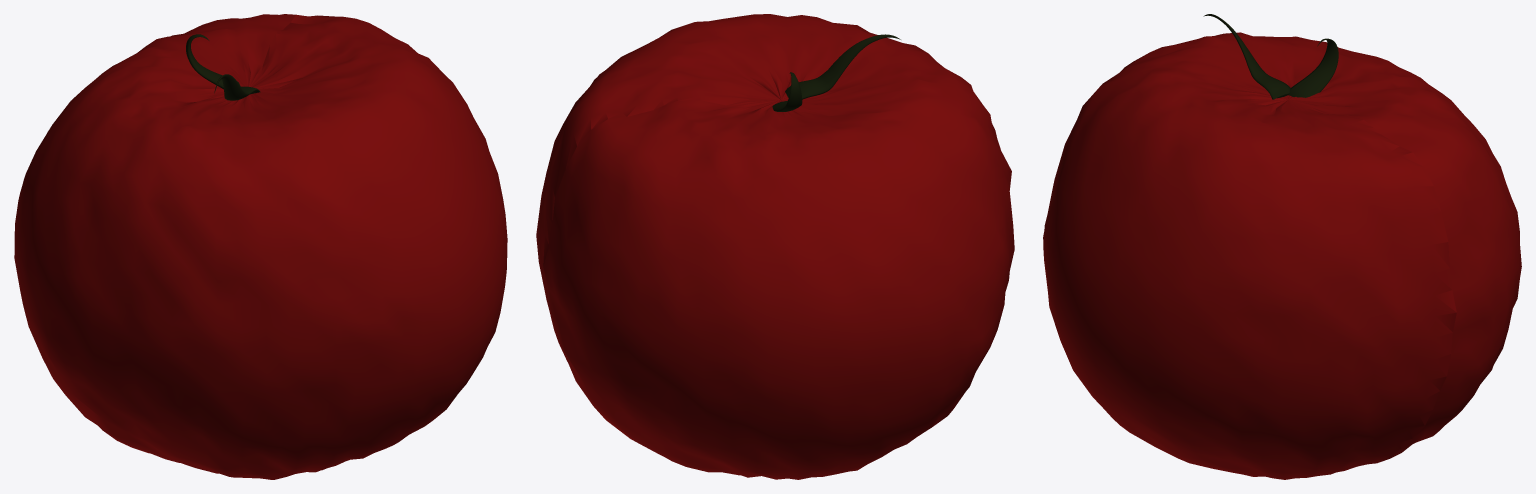
File: tomato.FBX
3 renders of one model, left to right at view 1: azimuth 30°, elevation 25°; view 2: azimuth 150°, elevation 25°; view 3: azimuth 270°, elevation 25°, orthographic. The views are drawn at different scales.
Parts seen in each view (by area): view 1: tomatos01, Loft09, Loft08; view 2: tomatos01, Loft09, Loft08; view 3: tomatos01, Loft08, Loft09.
Boxes of the visible parts, x1,y1,x2,y2 form: tomatos01: [14, 14, 507, 479]; Loft09: [214, 74, 260, 100]; Loft08: [186, 34, 239, 89]; tomatos01: [536, 14, 1014, 479]; Loft09: [785, 34, 900, 99]; Loft08: [772, 72, 802, 111]; tomatos01: [1043, 32, 1521, 479]; Loft08: [1289, 38, 1338, 97]; Loft09: [1203, 14, 1290, 99].
Bounding box in the file's own units: 54.94 × 50.74 × 55.91.
